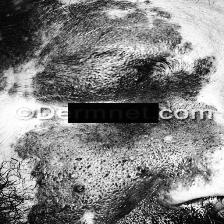Benign Marking or Mole: (0, 0, 219, 100), (11, 122, 217, 223)
